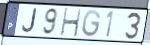1: (105, 10, 115, 39)
3: (123, 11, 142, 41)
9: (41, 7, 59, 36)
G: (81, 9, 102, 39)
H: (59, 8, 83, 39)
J: (21, 8, 38, 34)
